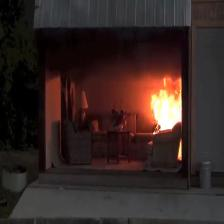fire: (150, 80, 184, 162)
